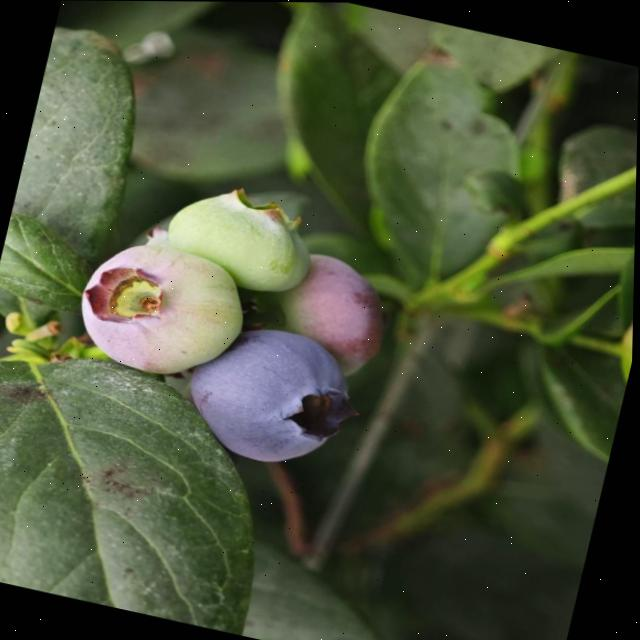RipeBlueBerry: (186, 313, 379, 479)
Semi-RipeBlueBerry: (66, 227, 254, 385), (258, 214, 406, 382)
UnripeBlueBerry: (163, 160, 325, 296)
